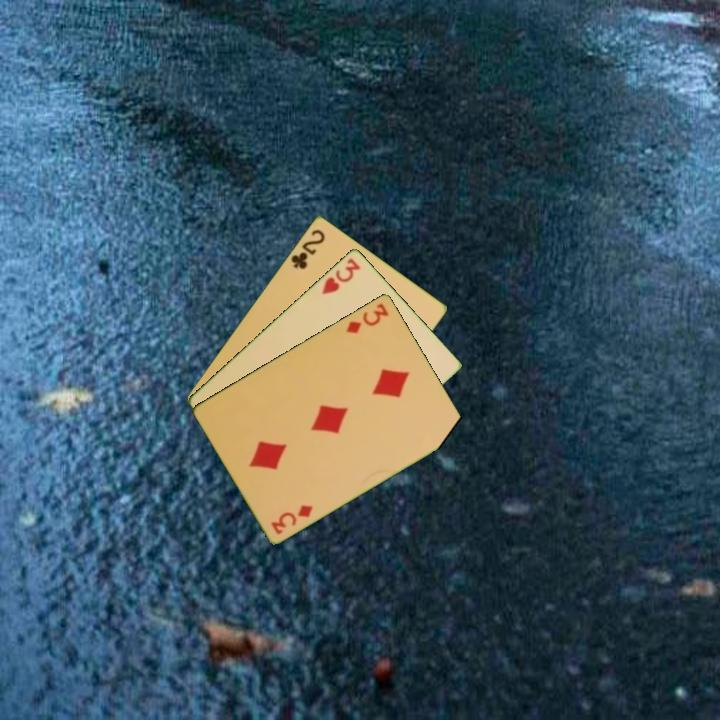2c: (287, 225, 328, 272)
3d: (342, 299, 392, 337), (267, 501, 316, 537)
3h: (318, 254, 363, 297)
